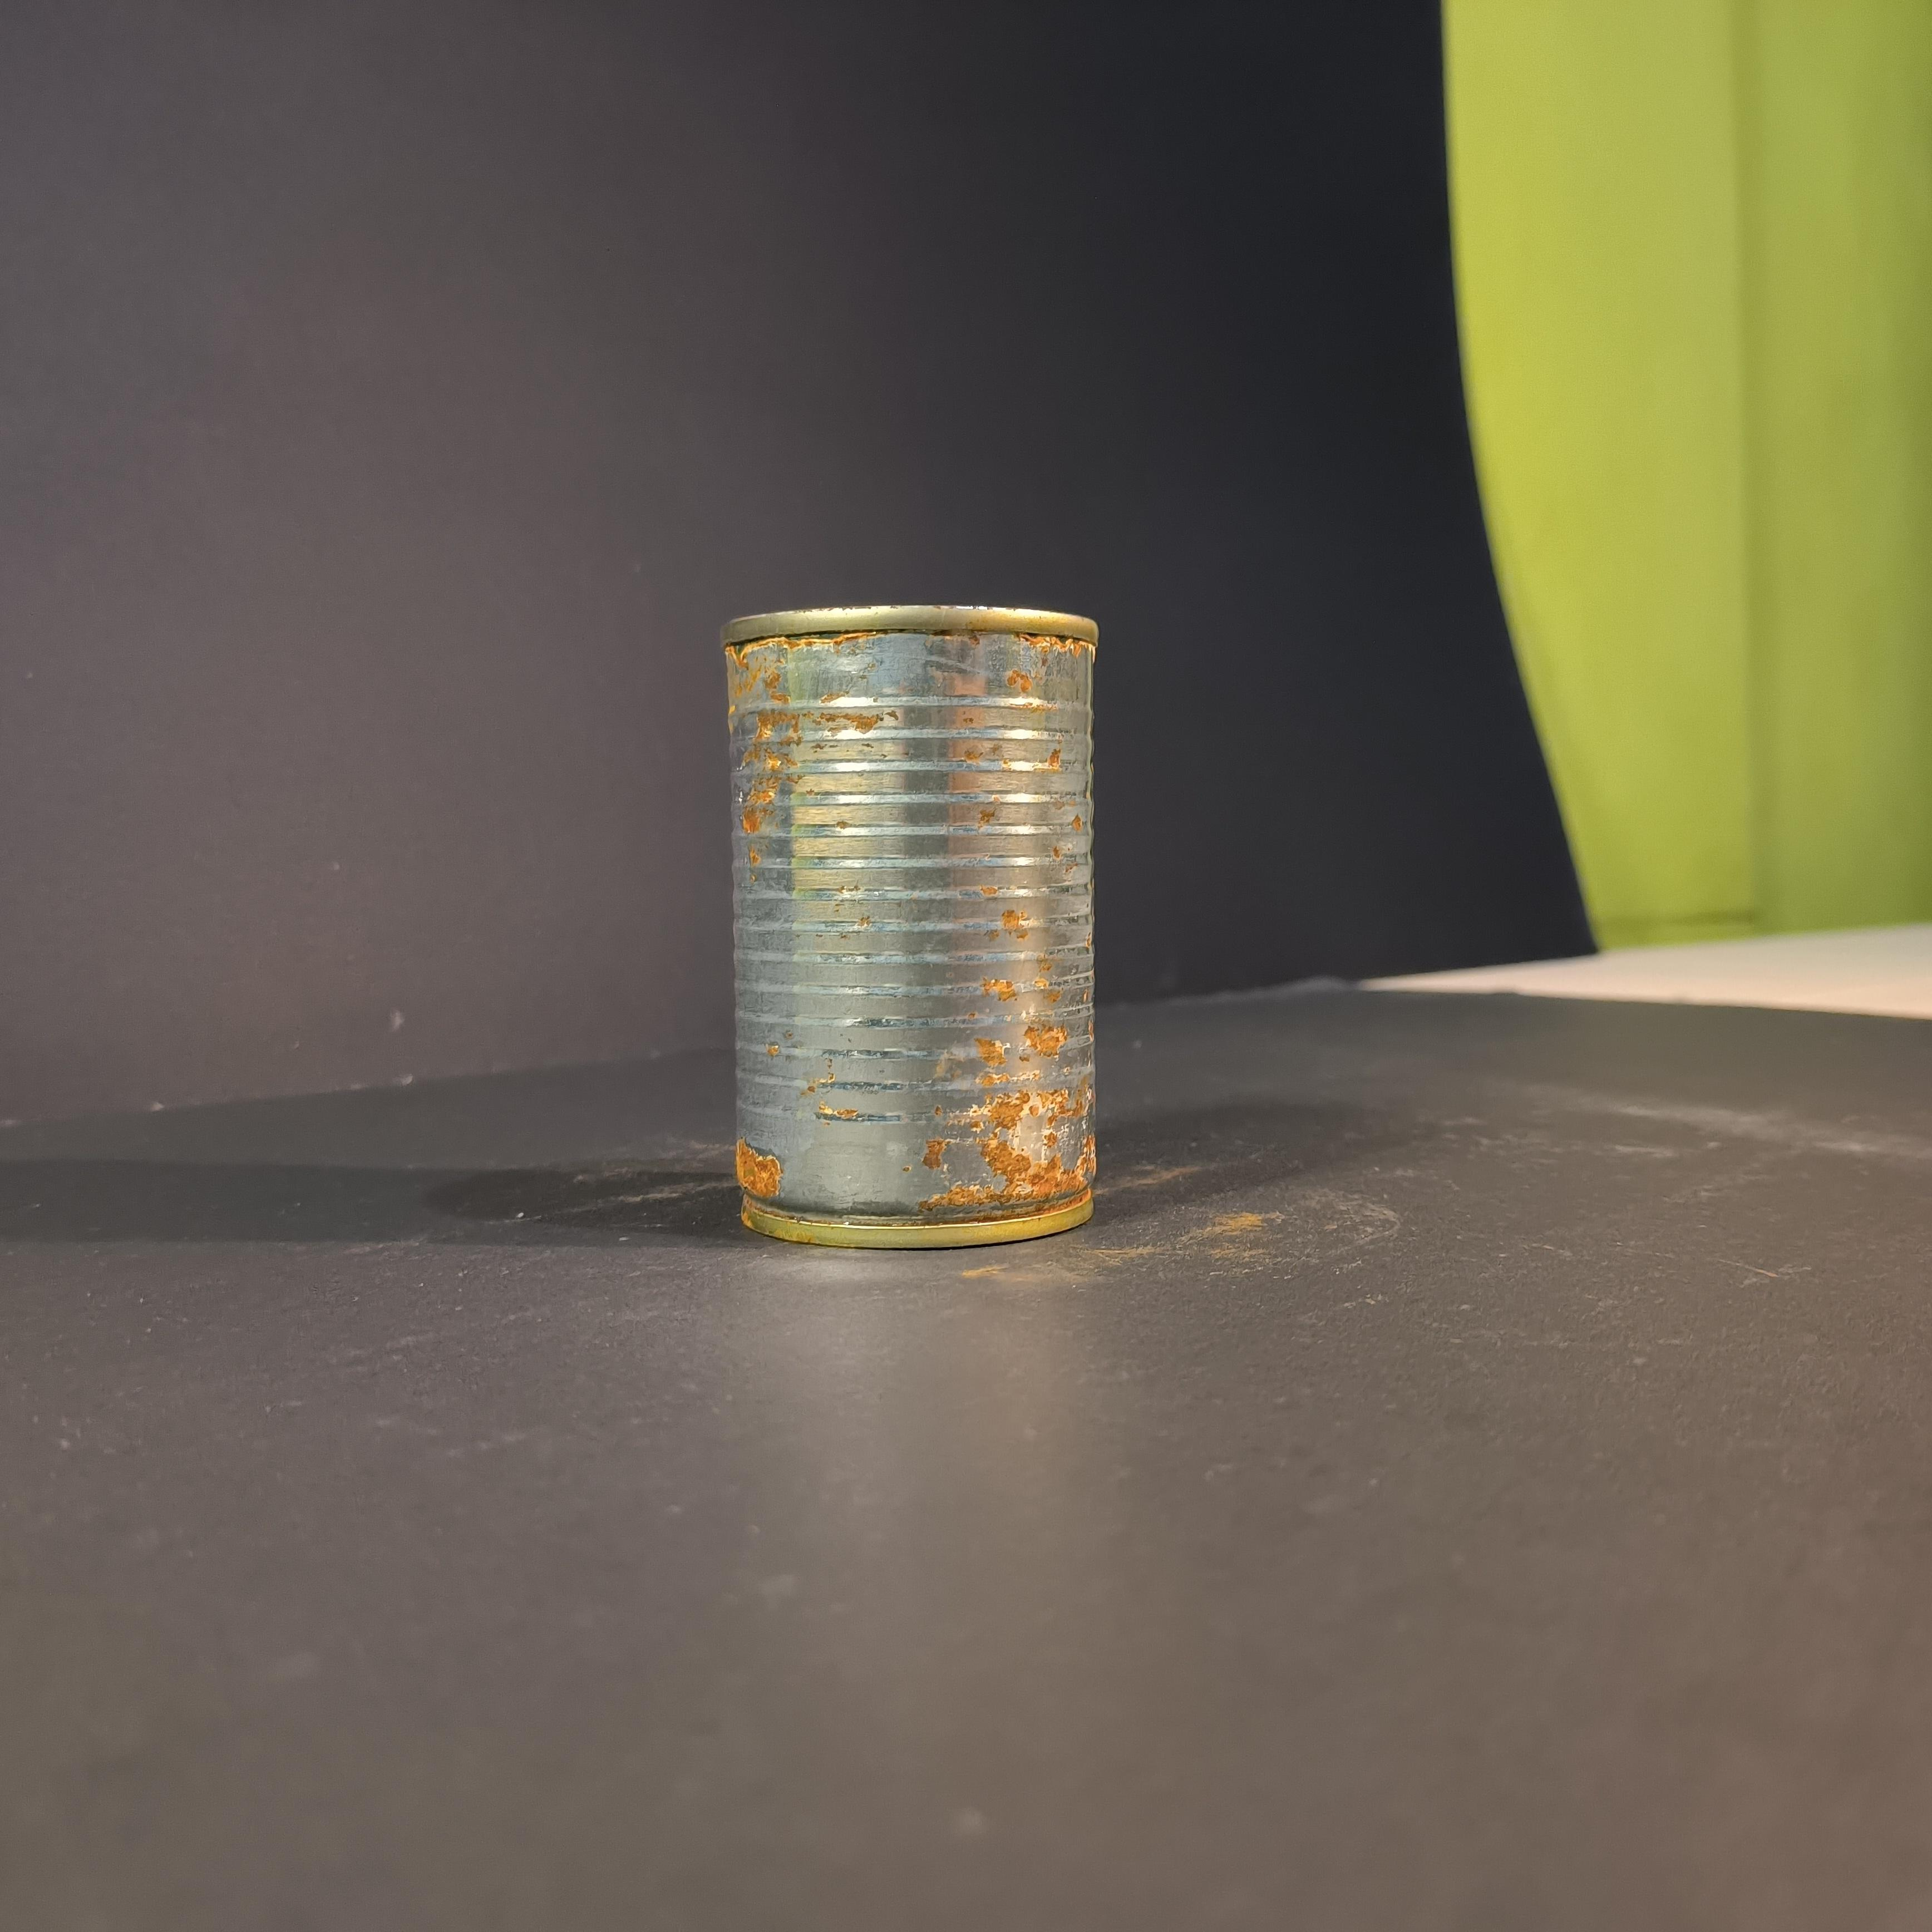Rusted: (713, 579, 1118, 1258)
